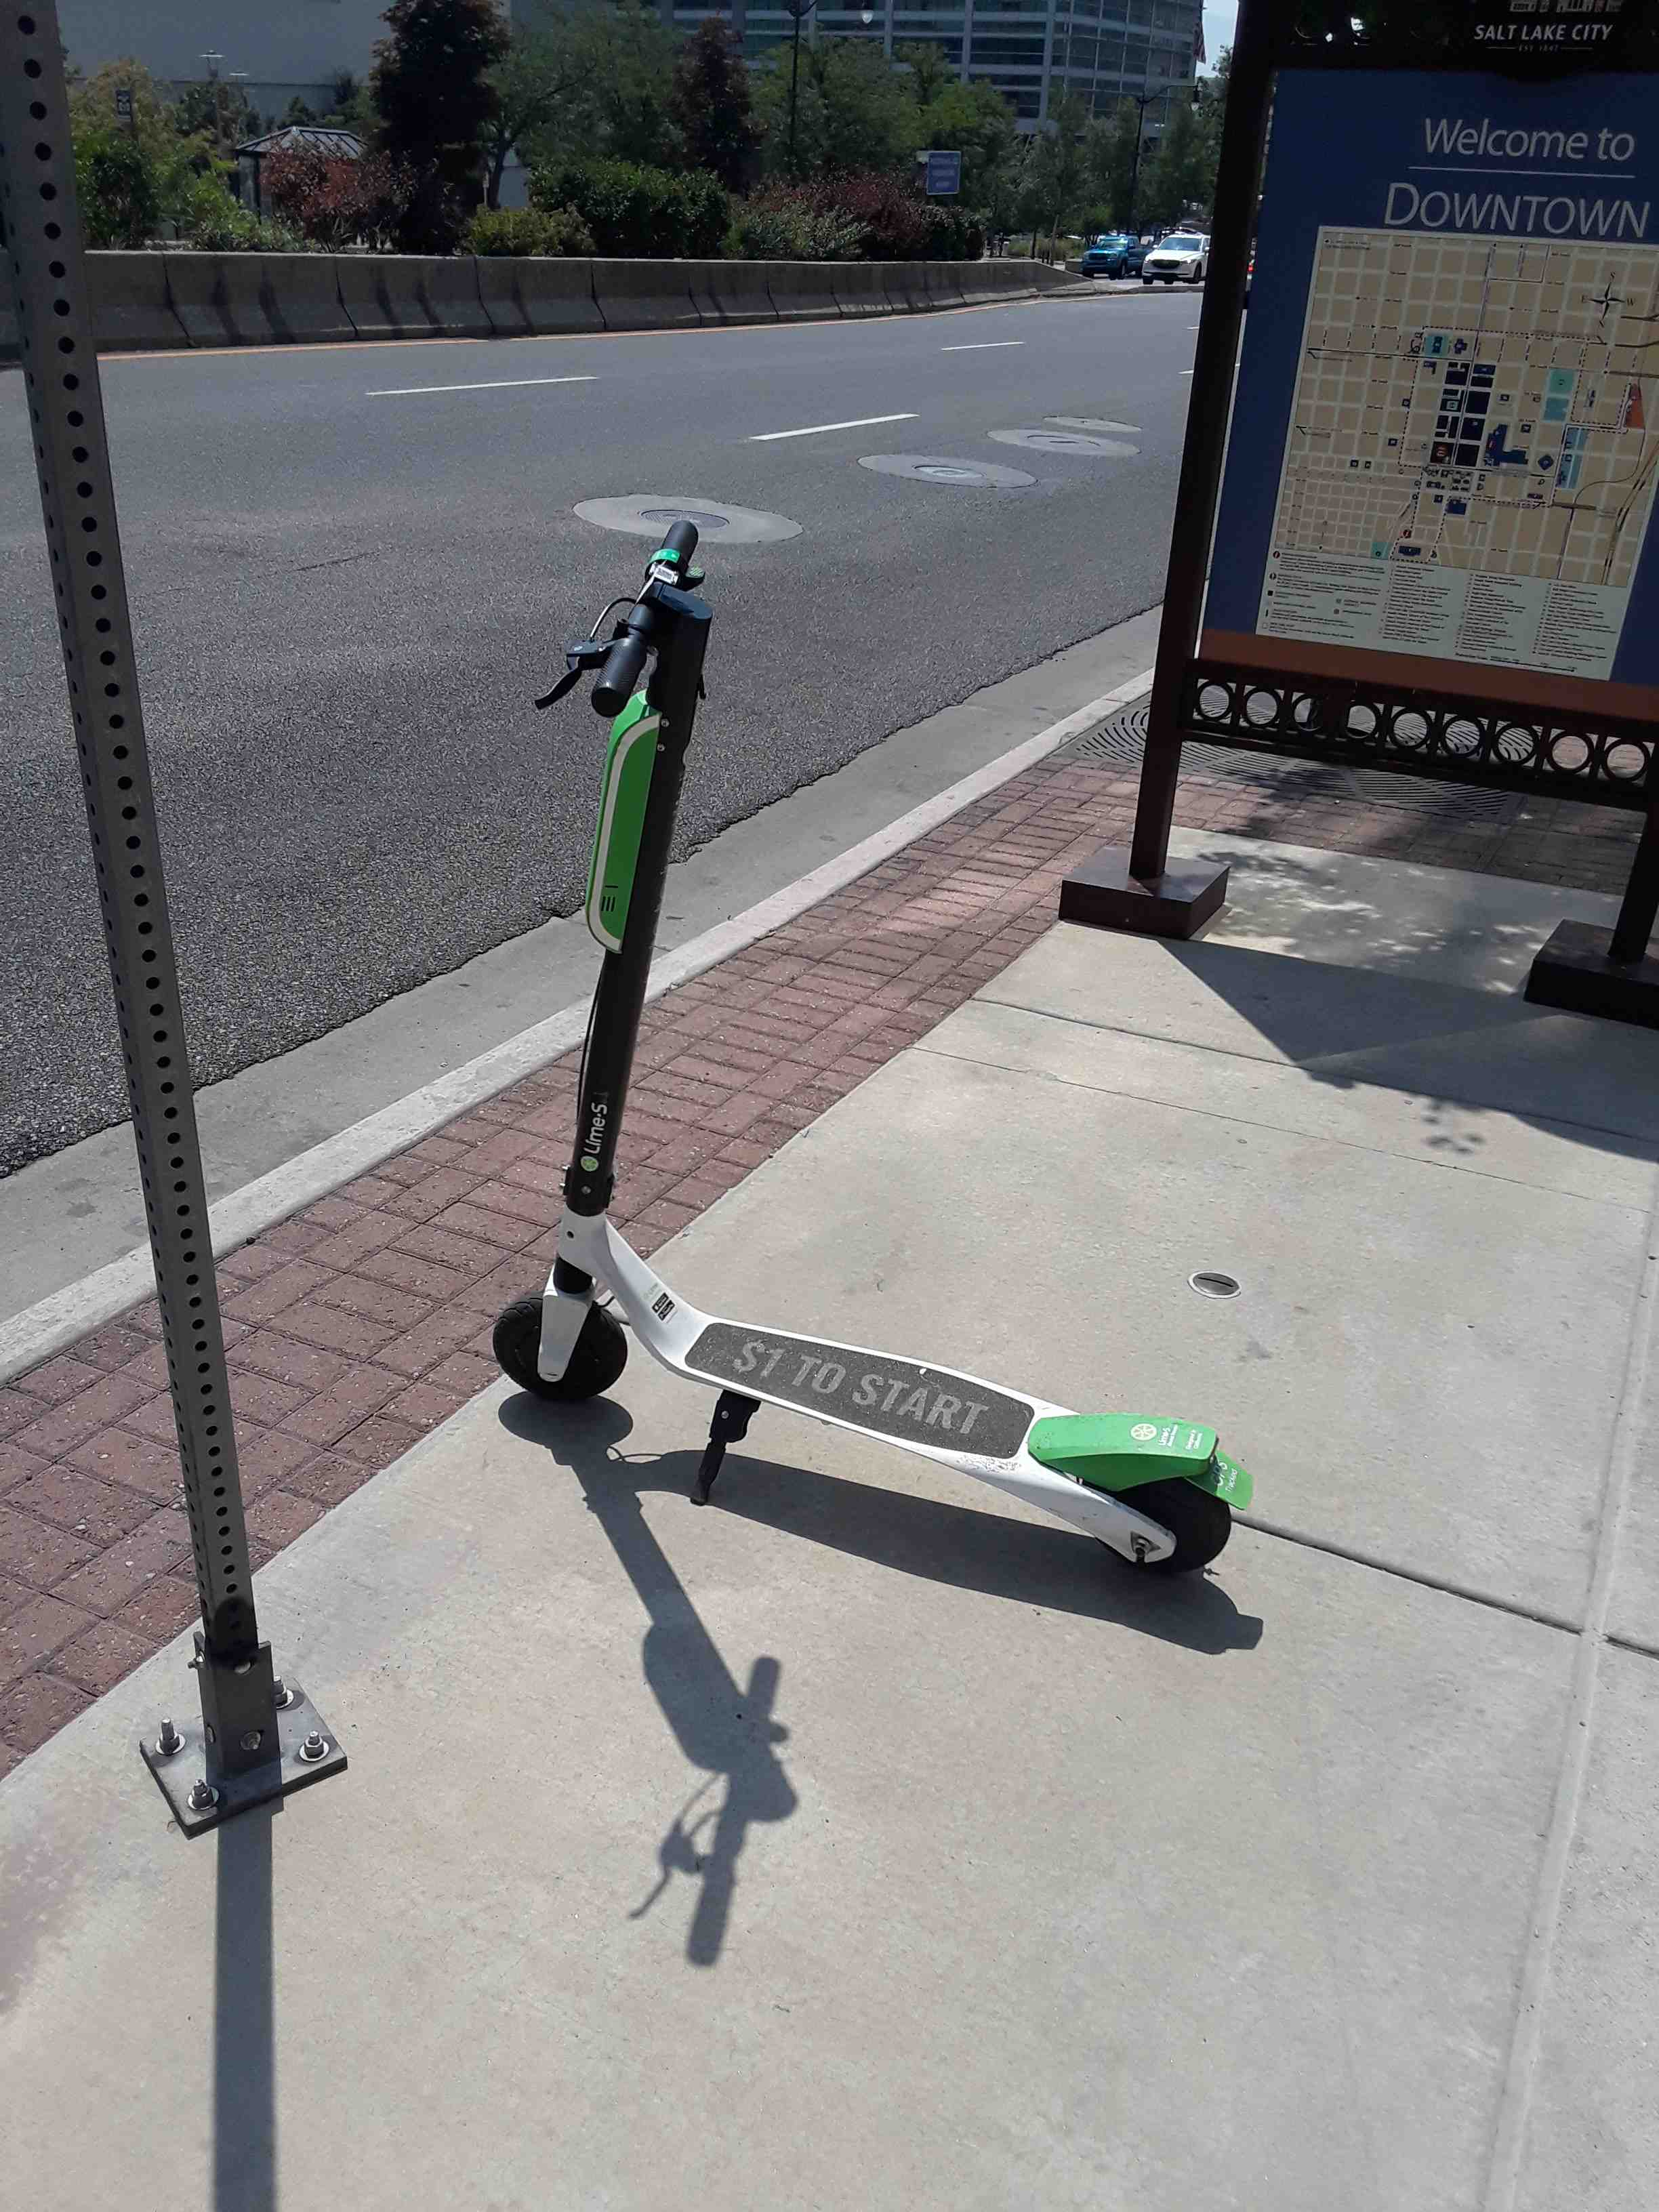scooter: (467, 491, 1256, 1613)
